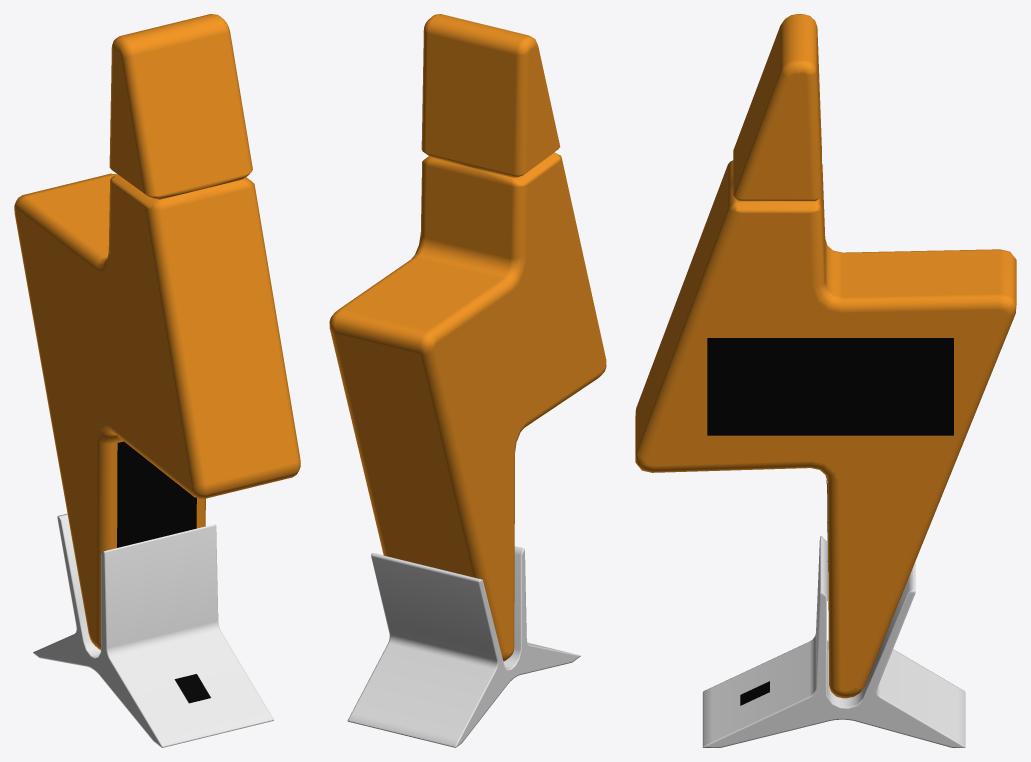
Rendered from tequila.fbx.
3 renders of one model, left to right at view 1: azimuth 30°, elevation 25°; view 2: azimuth 150°, elevation 25°; view 3: azimuth 270°, elevation 25°, orthographic. The views are drawn at different scales.
Parts seen in each view (by area): view 1: Plane.007, Plane.001, Plane.005, Plane.004, Plane.002; view 2: Plane.007, Plane.001, Plane.005; view 3: Plane.007, Plane.003, Plane.001, Plane.005.
Part boxes in pixels (x1,y1,x2,y2): Plane.007: (14, 173, 300, 650); Plane.001: (33, 513, 273, 747); Plane.005: (109, 14, 252, 199); Plane.004: (117, 441, 196, 547); Plane.002: (174, 674, 210, 703); Plane.007: (329, 152, 606, 661); Plane.001: (347, 546, 580, 747); Plane.005: (421, 14, 560, 177); Plane.007: (635, 160, 1016, 698); Plane.003: (707, 338, 953, 435); Plane.001: (702, 536, 965, 747); Plane.005: (733, 14, 821, 201).
Bounding box in the file's own units: 6.97 × 39.88 × 20.18.
